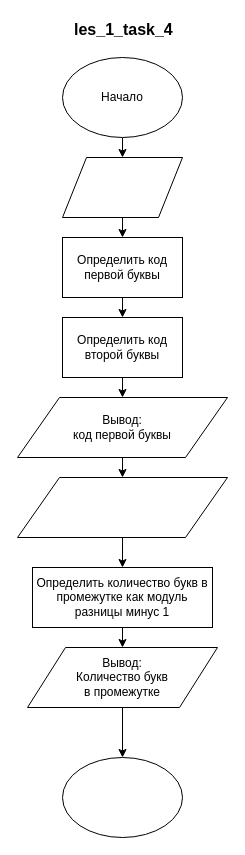
Some shapes in this 245 by 855 pixel diagram are drawn without their labels. The centre of each missing label's shape, as x and y in pixels:
"Ввод: a, b," belongs at point (122, 187).
"Вывод: код второй буквы" belongs at point (122, 507).
"Конец" belongs at point (122, 797).
